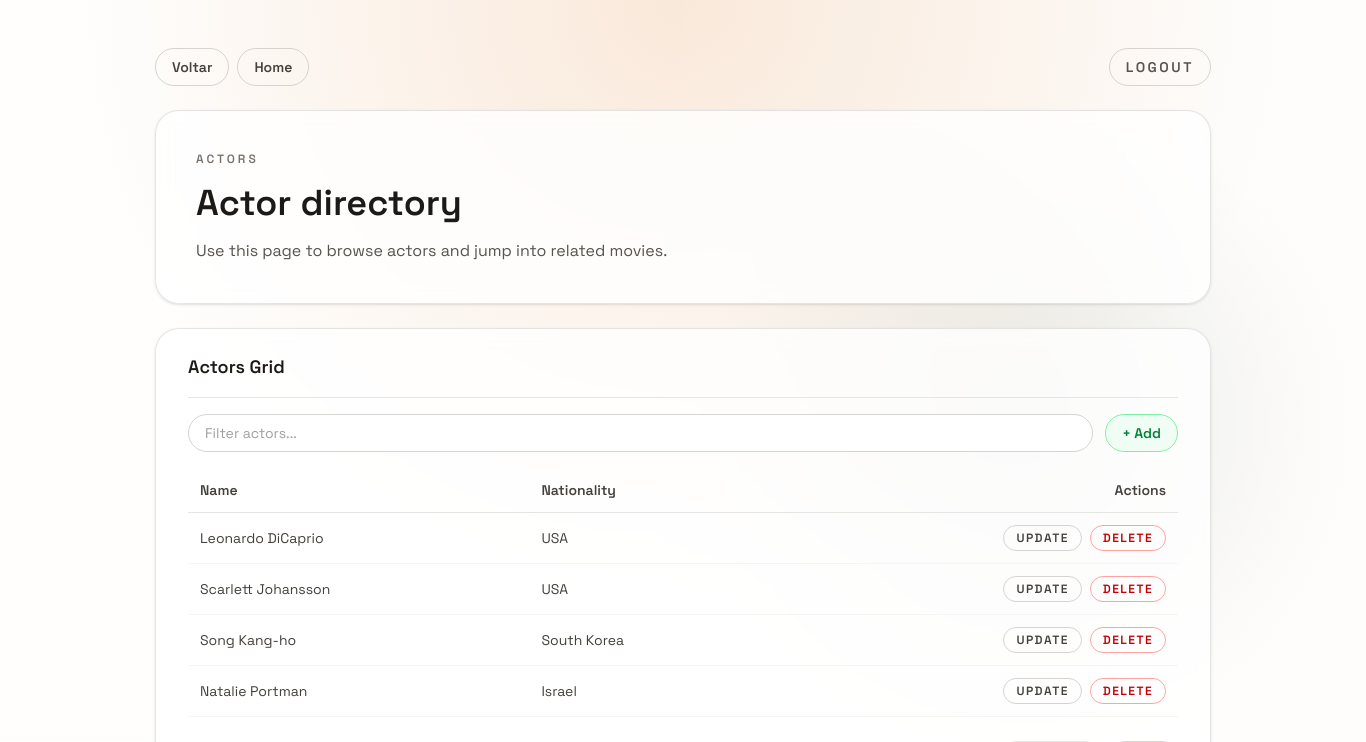
Scenario: ActorsPage › displays correct movies for selected actor
What coordinates should you click on to do the following:
click the text "Leonardo DiCaprio"
I would click on:
 (262, 538)
Its box is x1=188 y1=512 x2=529 y2=564.
(page scrolled)
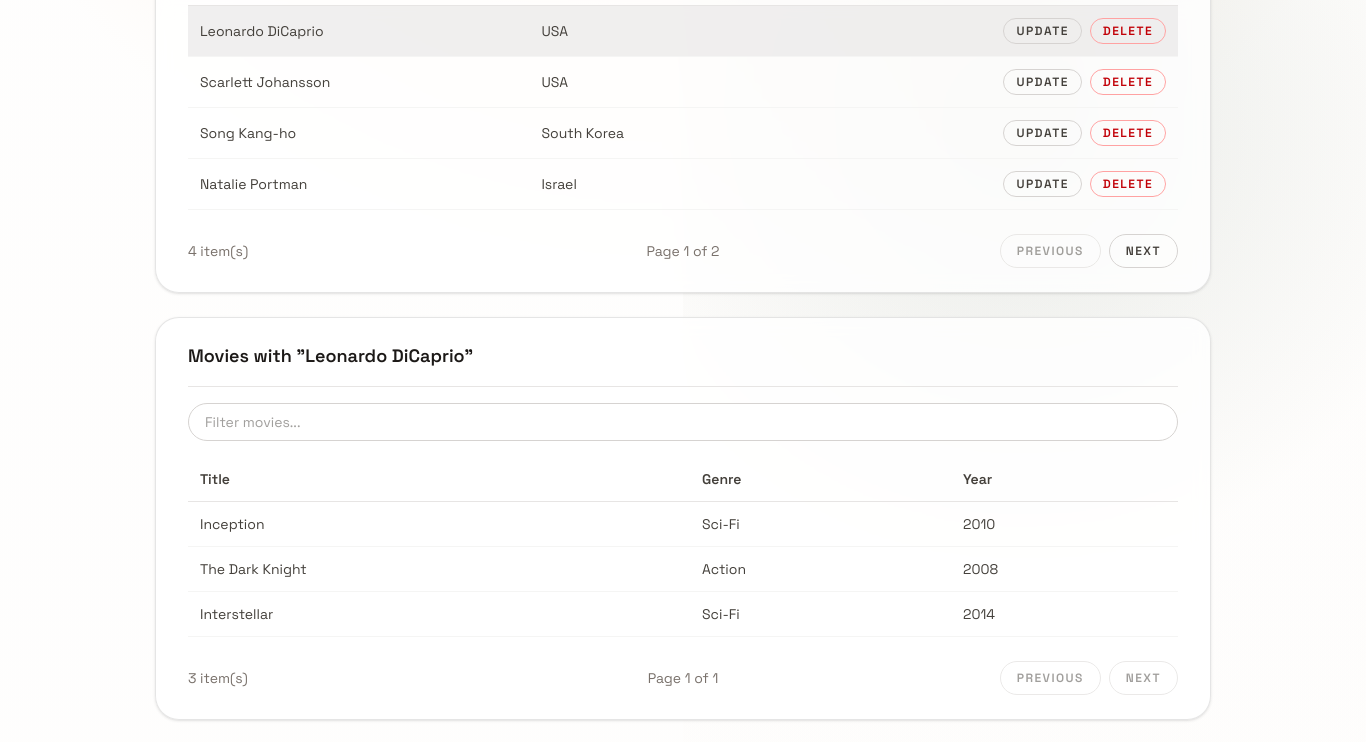
Expected: the text "Inception" is shown, x1=188 y1=502 x2=690 y2=546
Expected: the text "The Dark Knight" is shown, x1=188 y1=546 x2=690 y2=592
Expected: the text "Interstellar" is shown, x1=188 y1=592 x2=690 y2=636
